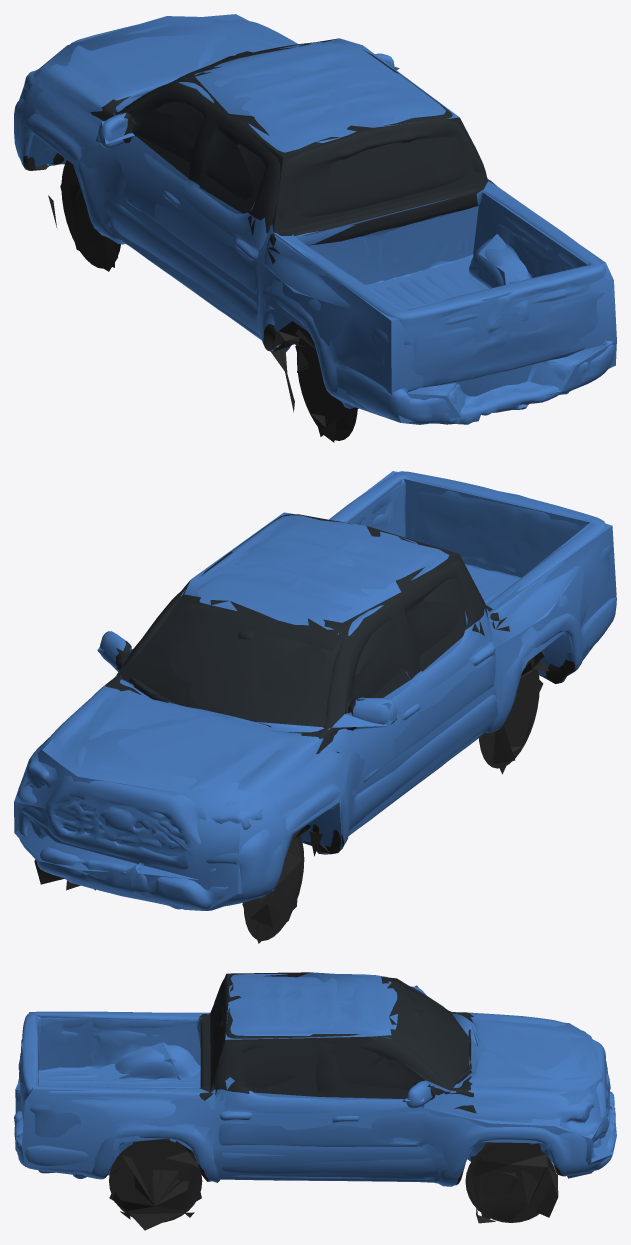
File: toyota-tacoma.glb
The picture shows the model from 3 angles, top to bottom: view 1: azimuth 30°, elevation 25°; view 2: azimuth 150°, elevation 25°; view 3: azimuth 270°, elevation 25°; orthographic projection. The views are drawn at different scales.
Parts seen in each view (by area): view 1: body, far; view 2: body, far; view 3: body, far.
Boxes of the visible parts, x1,y1,x2,y2 form: body: [14, 18, 614, 440]; far: [19, 14, 616, 442]; body: [17, 471, 616, 940]; far: [14, 471, 616, 943]; body: [14, 973, 615, 1229]; far: [15, 972, 616, 1230].
Size of the model in its own units: 2.4 by 2 by 5.63.
